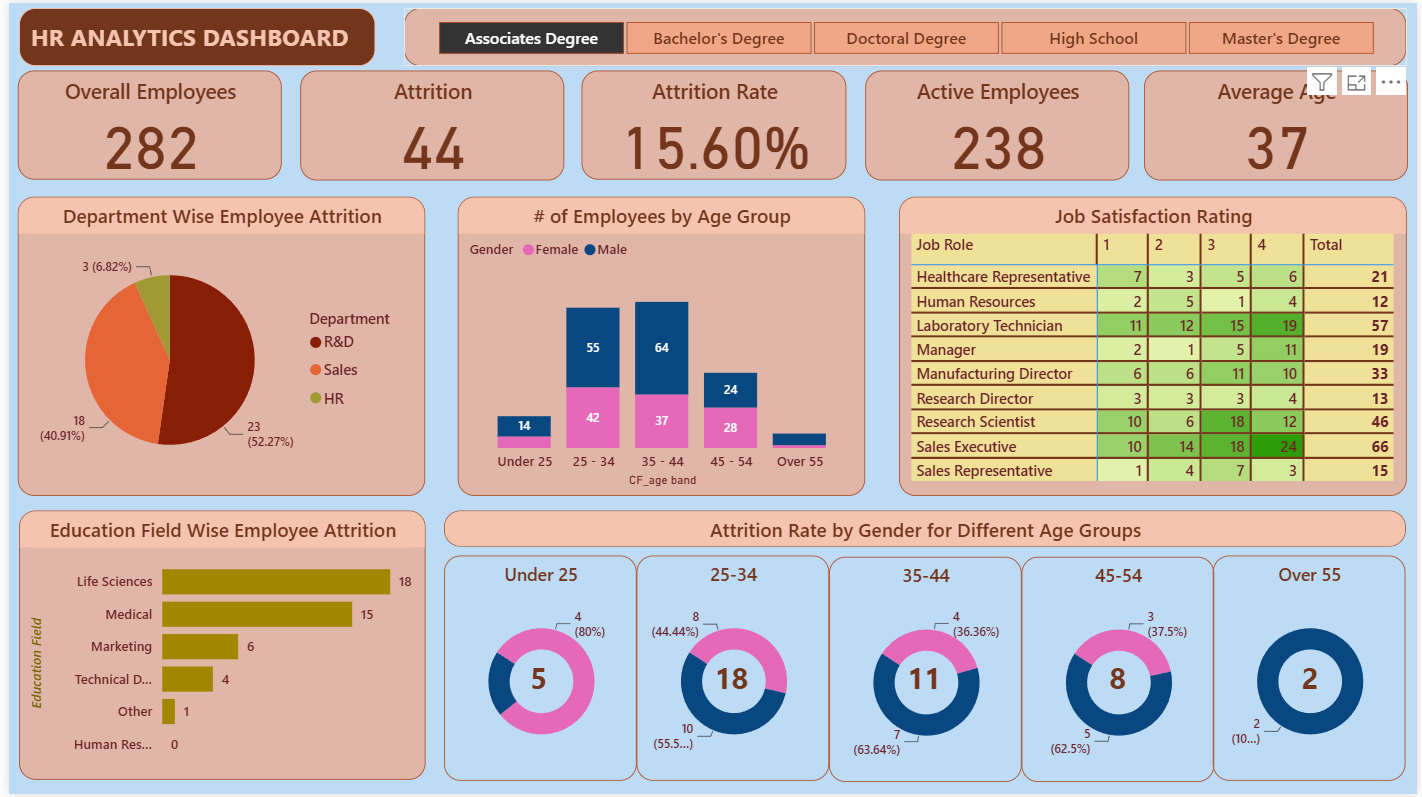

The page's visual inventory and layout, read from the dashboard file:
{"tool":"powerbi","page":{"name":"HR Analytics Dashboard","canvas":[1280,720],"ordinal":0},"visuals":[{"type":"card","title":"Overall Employees","fields":{"Values":["Sum(HR data.Employee Count)"]},"box":[8.3,61.5,239.9,99.1],"z":0},{"type":"card","title":"Attrition ","fields":{"Values":["Sum(HR data.Attrition Count)"]},"box":[264.9,61.5,239.9,100.1],"z":1000},{"type":"card","title":"Attrition Rate","fields":{"Values":["HR data.Attrition Rate"]},"box":[520.4,61.5,240.9,99.1],"z":2000},{"type":"card","title":"Active Employees","fields":{"Values":["HR data.Active employees"]},"box":[778,61.5,239.9,100.1],"z":3000},{"type":"card","title":"Average Age","fields":{"Values":["Avg(HR data.Age)"]},"box":[1031.4,61.5,239.9,100.1],"z":4000},{"type":"pieChart","title":"Department Wise Employee Attrition","fields":{"Category":["HR data.Department"],"Y":["Sum(HR data.Attrition Count)"]},"box":[8.4,175.8,370.2,272.1],"z":5000},{"type":"columnChart","title":"# of Employees by Age Group","fields":{"Category":["HR data.CF_age band"],"Y":["Sum(HR data.Employee Count)"],"Series":["HR data.Gender"]},"box":[407.6,175.8,370.2,272.1],"z":6000},{"type":"pivotTable","title":"Job Satisfaction Rating","fields":{"Rows":["HR data.Job Role"],"Columns":["HR data.Job Satisfaction"],"Values":["Sum(HR data.Employee Count)"]},"box":[809.6,175.8,461.8,272.1],"z":7000},{"type":"barChart","title":"Education Field Wise Employee Attrition","fields":{"Category":["HR data.Education Field"],"Y":["Sum(HR data.Attrition Count)"]},"box":[9.3,461.8,369.3,244.9],"z":8000},{"type":"donutChart","title":"Under 25","fields":{"Category":["HR data.Gender"],"Y":["Sum(HR data.Attrition Count)"],"Series":["HR data.CF_age band"]},"box":[395.5,502,174.8,204.7],"z":9000},{"type":"textbox","title":"Attrition Rate by Gender for Different Age Groups","box":[395.5,461.8,874.1,32.7],"z":10000},{"type":"donutChart","title":"25-34","fields":{"Category":["HR data.Gender"],"Y":["Sum(HR data.Attrition Count)"],"Series":["HR data.CF_age band"]},"box":[570.3,502,174.8,204.7],"z":11000},{"type":"donutChart","title":"35-44","fields":{"Category":["HR data.Gender"],"Y":["Sum(HR data.Attrition Count)"],"Series":["HR data.CF_age band"]},"box":[745.1,503,174.8,204.7],"z":12000},{"type":"donutChart","title":"45-54","fields":{"Category":["HR data.Gender"],"Y":["Sum(HR data.Attrition Count)"],"Series":["HR data.CF_age band"]},"box":[919.9,503,174.8,204.7],"z":13000},{"type":"donutChart","title":"Over 55","fields":{"Category":["HR data.Gender"],"Y":["Sum(HR data.Attrition Count)"],"Series":["HR data.CF_age band"]},"box":[1094.8,502,174.8,204.7],"z":14000},{"type":"card","fields":{"Values":["Sum(HR data.Attrition Count)"]},"box":[459,597.4,45.8,33.7],"z":15000},{"type":"card","fields":{"Values":["Sum(HR data.Attrition Count)"]},"box":[628.8,597.5,57.4,33.4],"z":16000},{"type":"card","fields":{"Values":["Sum(HR data.Attrition Count)"]},"box":[806.1,597.5,53.2,33.4],"z":17000},{"type":"card","fields":{"Values":["Sum(HR data.Attrition Count)"]},"box":[985.4,597.4,45.8,33.7],"z":18000},{"type":"card","fields":{"Values":["Sum(HR data.Attrition Count)"]},"box":[1160.2,597.4,45.8,33.7],"z":19000},{"type":"textbox","box":[9.4,4.2,324.3,53.2],"z":20000},{"type":"slicer","fields":{"Values":["HR data.Education"]},"box":[358.7,4.2,911.4,53],"z":21000}]}

Visuals, with their boxes in screenshot pixels (x1, y1, x2, y2), scaled from the page's 1280x720 canvas onto the 1422x797 screenshot:
"Overall Employees" card: {"left": 9, "top": 68, "right": 276, "bottom": 178}
"Attrition " card: {"left": 294, "top": 68, "right": 561, "bottom": 179}
"Attrition Rate" card: {"left": 578, "top": 68, "right": 846, "bottom": 178}
"Active Employees" card: {"left": 864, "top": 68, "right": 1131, "bottom": 179}
"Average Age" card: {"left": 1146, "top": 68, "right": 1412, "bottom": 179}
"Department Wise Employee Attrition" pieChart: {"left": 9, "top": 195, "right": 421, "bottom": 496}
"# of Employees by Age Group" columnChart: {"left": 453, "top": 195, "right": 864, "bottom": 496}
"Job Satisfaction Rating" pivotTable: {"left": 899, "top": 195, "right": 1412, "bottom": 496}
"Education Field Wise Employee Attrition" barChart: {"left": 10, "top": 511, "right": 421, "bottom": 782}
"Under 25" donutChart: {"left": 439, "top": 556, "right": 634, "bottom": 782}
"Attrition Rate by Gender for Different Age Groups" textbox: {"left": 439, "top": 511, "right": 1410, "bottom": 547}
"25-34" donutChart: {"left": 634, "top": 556, "right": 828, "bottom": 782}
"35-44" donutChart: {"left": 828, "top": 557, "right": 1022, "bottom": 783}
"45-54" donutChart: {"left": 1022, "top": 557, "right": 1216, "bottom": 783}
"Over 55" donutChart: {"left": 1216, "top": 556, "right": 1410, "bottom": 782}
card - Sum(HR data.Attrition Count): {"left": 510, "top": 661, "right": 561, "bottom": 699}
card - Sum(HR data.Attrition Count): {"left": 699, "top": 661, "right": 762, "bottom": 698}
card - Sum(HR data.Attrition Count): {"left": 896, "top": 661, "right": 955, "bottom": 698}
card - Sum(HR data.Attrition Count): {"left": 1095, "top": 661, "right": 1146, "bottom": 699}
card - Sum(HR data.Attrition Count): {"left": 1289, "top": 661, "right": 1340, "bottom": 699}
textbox: {"left": 10, "top": 5, "right": 371, "bottom": 64}
slicer - HR data.Education: {"left": 398, "top": 5, "right": 1411, "bottom": 63}
